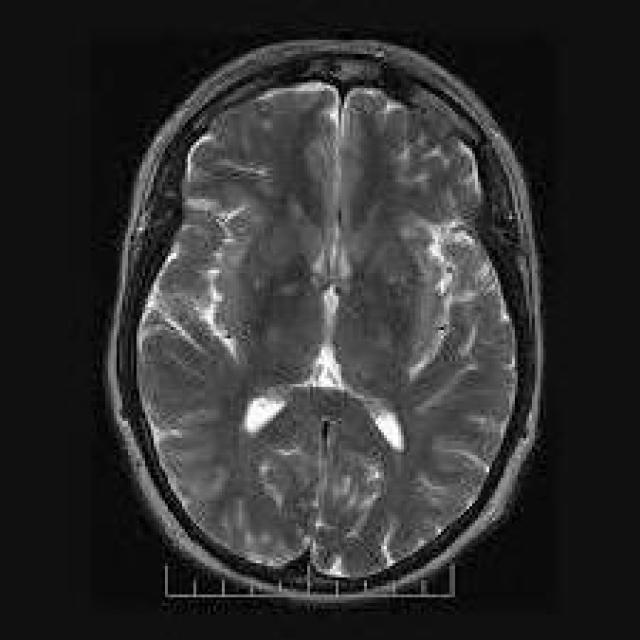notumor: (108, 40, 540, 594)
